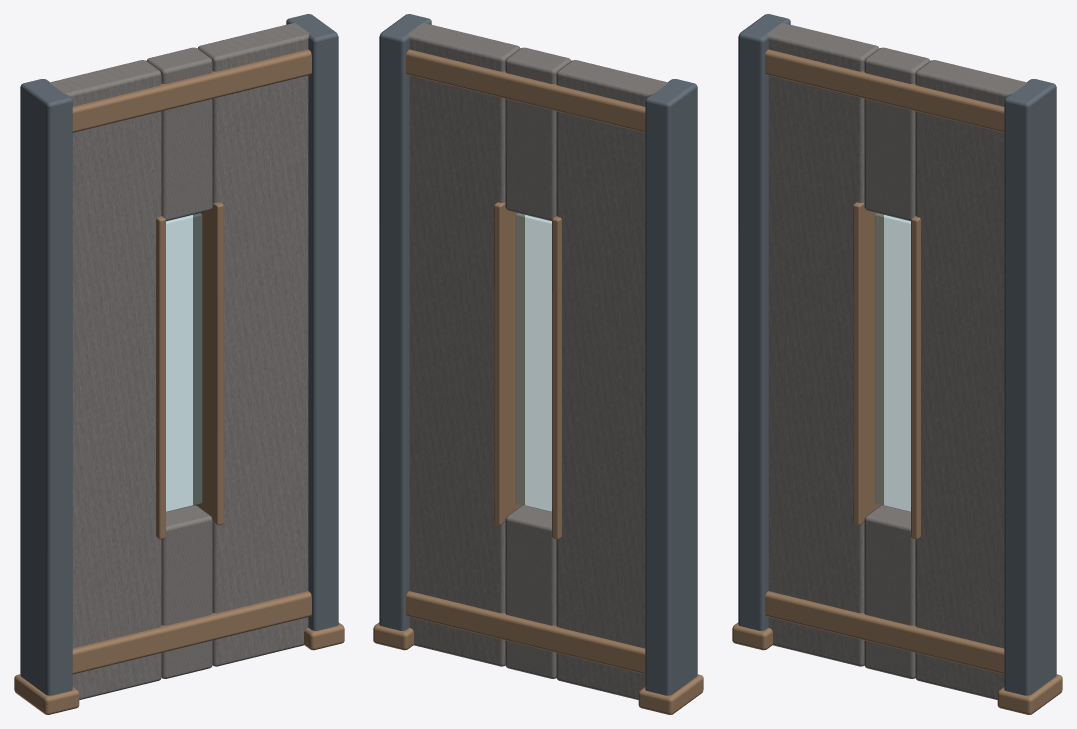
The model's file is arena-shooter-map-kit-window-slit-f3da8cd7__23070.glb.
3 renders of one model, left to right at view 1: azimuth 30°, elevation 25°; view 2: azimuth 150°, elevation 25°; view 3: azimuth 330°, elevation 25°, orthographic.
Visible parts, largest first — view 1: window-slit; view 2: window-slit; view 3: window-slit.
Boxes of the visible parts, box(x1,y1,x2,y2) form: window-slit: box(14, 14, 344, 714); window-slit: box(373, 14, 703, 714); window-slit: box(732, 14, 1062, 714).
Bounding box in the file's own units: 2.06 × 4 × 0.4.
Materials: 4 (1 with a texture image).
